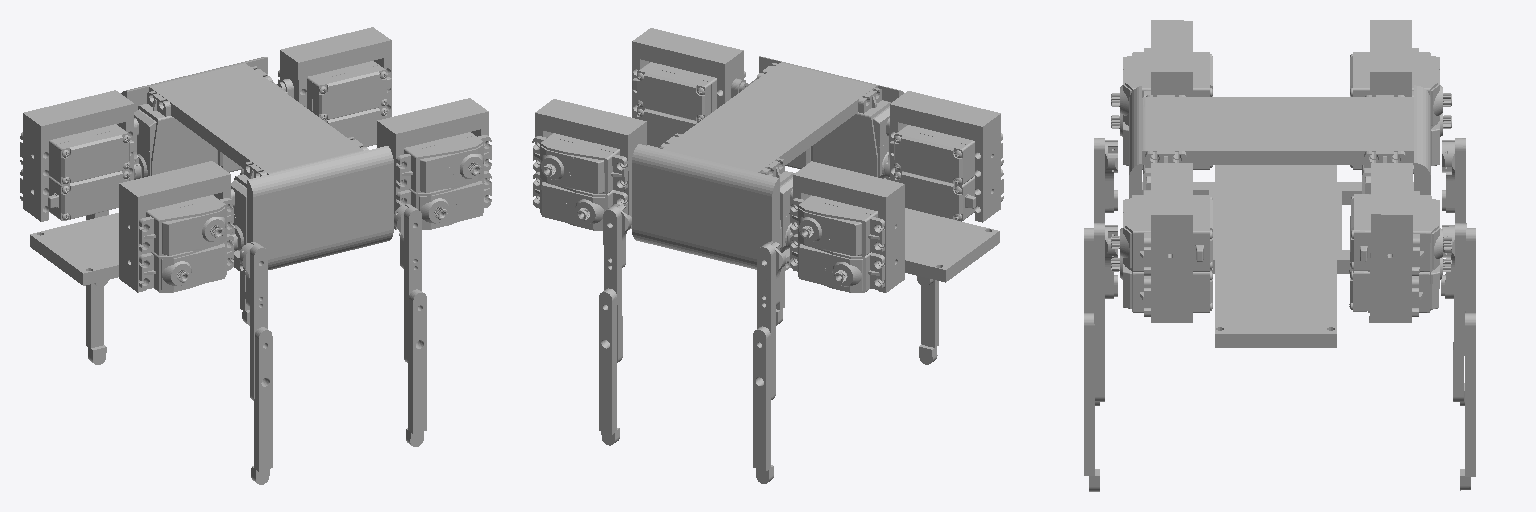
robot.urdf — robot_sim:
<?xml version="1.0" ?>
<robot name="robot_sim">

    <material name="black">
        <color rgba="0.15 0.15 0.15 1.0"/>
    </material>
    <material name="silver">
        <color rgba="0.75 0.75 0.75 1.0"/>
    </material>

    <link name="base_link">
        <visual>
            <origin rpy="0 0 0" xyz="0 0 0"/>
            <geometry>
                <mesh filename="package://robot_sim_description/meshes/base_link.stl" scale="0.001 0.001 0.001"/>
            </geometry>
            <material name="silver"/>
        </visual>
        <collision>
            <origin rpy="0 0 0" xyz="0 0 0"/>
            <geometry>
                <mesh filename="package://robot_sim_description/meshes/base_link.stl" scale="0.001 0.001 0.001"/>
            </geometry>
        </collision>
    </link>

    <link name="base_inertia">
        <inertial>
            <origin xyz="0 0 0"/>
            <mass value="2.7"/>
            <inertia ixx="0.0028125" ixy="0.0" ixz="0.0" iyy="0.005625" iyz="0.0" izz="0.0073125"/>
        </inertial>
    </link>
    <joint name="base_link_to_base_inertia" type="fixed">
        <parent link="base_link"/>
        <child link="base_inertia"/>
        <origin rpy="0 0 0" xyz="0 0 0"/>
    </joint>

    <gazebo reference="base_link">
        <material>Gazebo/Grey</material>
    </gazebo>


    <joint name="lf_hipp_joint" type="revolute">
        <axis xyz="1 0 0"/>
        <limit effort="5" lower="-3.14" upper="3.14" velocity="2.5"/>
        <parent link="base_link"/>
        <child link="lf_hipp_link"/>
        <origin rpy="0 0 0" xyz="0.04469 0.04937 0.01767"/>
    </joint>
    <link name="lf_hipp_link">
        <inertial>
            <mass value="0.7"/>
            <inertia ixx="0.0001866" ixy="0.0" ixz="0.0" iyy="0.0001866" iyz="0.0" izz="0.0001866"/>
        </inertial>
        <visual>
            <origin rpy="0 0 0" xyz="0 0 0"/>
            <geometry>
                <mesh filename="package://robot_sim_description/meshes/lf_hipp.stl" scale="0.001 0.001 0.001"/>
            </geometry>
            <material name="silver"/>
        </visual>
        <collision>
            <origin rpy="0 0 0" xyz="0 0 0"/>
            <geometry>
                <mesh filename="package://robot_sim_description/meshes/lf_hipp.stl" scale="0.001 0.001 0.001"/>
            </geometry>
        </collision>
    </link>
    <joint name="lf_up_joint" type="revolute">
        <axis xyz="0 1 0"/>
        <limit effort="5" lower="-3.14" upper="3.14" velocity="2.5"/>
        <parent link="lf_hipp_link"/>
        <child link="lf_up_link"/>
        <origin rpy="0 0 0" xyz="0 0.0266 0"/>
    </joint>
    <link name="lf_up_link">
        <inertial>
            <origin xyz="0 0 -0.03265"/>
            <mass value="0.2"/>
            <inertia ixx="0.0000777" ixy="0.0" ixz="0.0" iyy="0.0000860" iyz="0.0" izz="0.0000216"/>
        </inertial>
        <visual>
            <origin rpy="0 0 0" xyz="0 0 0"/>
            <geometry>
                <mesh filename="package://robot_sim_description/meshes/lf_up.stl" scale="0.001 0.001 0.001"/>
            </geometry>
            <material name="silver"/>
        </visual>
        <collision>
            <origin rpy="0 0 0" xyz="0 0 0"/>
            <geometry>
                <mesh filename="package://robot_sim_description/meshes/lf_up.stl" scale="0.001 0.001 0.001"/>
            </geometry>
        </collision>
    </link>
    <joint name="lf_low_joint" type="revolute">
        <axis xyz="0 1 0"/>
        <limit effort="5" lower="-3.14" upper="3.14" velocity="2.5"/>
        <parent link="lf_up_link"/>
        <child link="lf_low_link"/>
        <origin rpy="0 0 0" xyz="0 0.0075 -0.0653"/>
    </joint>
    <link name="lf_low_link">
        <inertial>
            <origin xyz="0 0 -0.025"/>
            <mass value="0.2"/>
            <inertia ixx="0.0000483" ixy="0.0" ixz="0.0" iyy="0.0000483" iyz="0.0" izz="0.0000133"/>
        </inertial>
        <visual>
            <origin rpy="0 0 0" xyz="0 0 0"/>
            <geometry>
                <mesh filename="package://robot_sim_description/meshes/lf_low.stl" scale="0.001 0.001 0.001"/>
            </geometry>
            <material name="silver"/>
        </visual>
        <collision>
            <origin rpy="0 0 0" xyz="0 0 0"/>
            <geometry>
                <mesh filename="package://robot_sim_description/meshes/lf_low.stl" scale="0.001 0.001 0.001"/>
            </geometry>
        </collision>
    </link>
    <joint name="lf_foot_joint" type="fixed">
        <parent link="lf_low_link"/>
        <child link="lf_foot_link"/>
        <origin rpy="0 0 0" xyz="0 0 -0.0495"/>
    </joint>
    <link name="lf_foot_link">
        <inertial>
            <mass value="0.1"/>
            <inertia ixx="0.0001" ixy="0.0" ixz="0.0" iyy="0.0001" iyz="0.0" izz="0.0001"/>
        </inertial>
        <visual>
            <origin rpy="0 0 0" xyz="0 0 0"/>
            <geometry>
                <mesh filename="package://robot_sim_description/meshes/lf_foot.stl" scale="0.001 0.001 0.001"/>
            </geometry>
            <material name="silver"/>
        </visual>
        <collision>
            <origin rpy="0 0 0" xyz="0 0 0"/>
            <geometry>
                <sphere radius="0.02"/>
            </geometry>
        </collision>
    </link>


    <joint name="lh_hipp_joint" type="revolute">
        <axis xyz="1 0 0"/>
        <limit effort="5" lower="-3.14" upper="3.14" velocity="2.5"/>
        <parent link="base_link"/>
        <child link="lh_hipp_link"/>
        <origin rpy="0 0 0" xyz="-0.04640 0.04937 0.01767"/>
    </joint>
    <link name="lh_hipp_link">
        <inertial>
            <mass value="0.7"/>
            <inertia ixx="0.0001866" ixy="0.0" ixz="0.0" iyy="0.0001866" iyz="0.0" izz="0.0001866"/>
        </inertial>
        <visual>
            <origin rpy="0 0 0" xyz="0 0 0"/>
            <geometry>
                <mesh filename="package://robot_sim_description/meshes/lh_hipp.stl" scale="0.001 0.001 0.001"/>
            </geometry>
            <material name="silver"/>
        </visual>
        <collision>
            <origin rpy="0 0 0" xyz="0 0 0"/>
            <geometry>
                <mesh filename="package://robot_sim_description/meshes/lh_hipp.stl" scale="0.001 0.001 0.001"/>
            </geometry>
        </collision>
    </link>
    <joint name="lh_up_joint" type="revolute">
        <axis xyz="0 1 0"/>
        <limit effort="5" lower="-3.14" upper="3.14" velocity="2.5"/>
        <parent link="lh_hipp_link"/>
        <child link="lh_up_link"/>
        <origin rpy="0 0 0" xyz="0 0.0266 0"/>
    </joint>
    <link name="lh_up_link">
        <inertial>
            <origin xyz="0 0 -0.03265"/>
            <mass value="0.2"/>
            <inertia ixx="0.0000777" ixy="0.0" ixz="0.0" iyy="0.0000860" iyz="0.0" izz="0.0000216"/>
        </inertial>
        <visual>
            <origin rpy="0 0 0" xyz="0 0 0"/>
            <geometry>
                <mesh filename="package://robot_sim_description/meshes/lh_up.stl" scale="0.001 0.001 0.001"/>
            </geometry>
            <material name="silver"/>
        </visual>
        <collision>
            <origin rpy="0 0 0" xyz="0 0 0"/>
            <geometry>
                <mesh filename="package://robot_sim_description/meshes/lh_up.stl" scale="0.001 0.001 0.001"/>
            </geometry>
        </collision>
    </link>
    <joint name="lh_low_joint" type="revolute">
        <axis xyz="0 1 0"/>
        <limit effort="5" lower="-3.14" upper="3.14" velocity="2.5"/>
        <parent link="lh_up_link"/>
        <child link="lh_low_link"/>
        <origin rpy="0 0 0" xyz="0 0.0075 -0.0653"/>
    </joint>
    <link name="lh_low_link">
        <inertial>
            <origin xyz="0 0 -0.025"/>
            <mass value="0.2"/>
            <inertia ixx="0.0000483" ixy="0.0" ixz="0.0" iyy="0.0000483" iyz="0.0" izz="0.0000133"/>
        </inertial>
        <visual>
            <origin rpy="0 0 0" xyz="0 0 0"/>
            <geometry>
                <mesh filename="package://robot_sim_description/meshes/lh_low.stl" scale="0.001 0.001 0.001"/>
            </geometry>
            <material name="silver"/>
        </visual>
        <collision>
            <origin rpy="0 0 0" xyz="0 0 0"/>
            <geometry>
                <mesh filename="package://robot_sim_description/meshes/lh_low.stl" scale="0.001 0.001 0.001"/>
            </geometry>
        </collision>
    </link>
    <joint name="lh_foot_joint" type="fixed">
        <parent link="lh_low_link"/>
        <child link="lh_foot_link"/>
        <origin rpy="0 0 0" xyz="0 0 -0.0495"/>
    </joint>
    <link name="lh_foot_link">
        <inertial>
            <mass value="0.1"/>
            <inertia ixx="0.0001" ixy="0.0" ixz="0.0" iyy="0.0001" iyz="0.0" izz="0.0001"/>
        </inertial>
        <visual>
            <origin rpy="0 0 0" xyz="0 0 0"/>
            <geometry>
                <mesh filename="package://robot_sim_description/meshes/lh_foot.stl" scale="0.001 0.001 0.001"/>
            </geometry>
            <material name="silver"/>
        </visual>
        <collision>
            <origin rpy="0 0 0" xyz="0 0 0"/>
            <geometry>
                <sphere radius="0.02"/>
            </geometry>
        </collision>
    </link>


    <joint name="rf_hipp_joint" type="revolute">
        <axis xyz="1 0 0"/>
        <limit effort="5" lower="-3.14" upper="3.14" velocity="2.5"/>
        <parent link="base_link"/>
        <child link="rf_hipp_link"/>
        <origin rpy="0 0 0" xyz="0.04469 -0.04937 0.01767"/>
    </joint>
    <link name="rf_hipp_link">
        <inertial>
            <mass value="0.7"/>
            <inertia ixx="0.0001866" ixy="0.0" ixz="0.0" iyy="0.0001866" iyz="0.0" izz="0.0001866"/>
        </inertial>
        <visual>
            <origin rpy="0 0 0" xyz="0 0 0"/>
            <geometry>
                <mesh filename="package://robot_sim_description/meshes/rf_hipp.stl" scale="0.001 0.001 0.001"/>
            </geometry>
            <material name="silver"/>
        </visual>
        <collision>
            <origin rpy="0 0 0" xyz="0 0 0"/>
            <geometry>
                <mesh filename="package://robot_sim_description/meshes/rf_hippp.stl" scale="0.001 0.001 0.001"/>
            </geometry>
        </collision>
    </link>
    <joint name="rf_up_joint" type="revolute">
        <axis xyz="0 1 0"/>
        <limit effort="5" lower="-3.14" upper="3.14" velocity="2.5"/>
        <parent link="rf_hipp_link"/>
        <child link="rf_up_link"/>
        <origin rpy="0 0 0" xyz="0 -0.0266 0"/>
    </joint>
    <link name="rf_up_link">
        <inertial>
            <origin xyz="0 0 -0.03265"/>
            <mass value="0.2"/>
            <inertia ixx="0.0000777" ixy="0.0" ixz="0.0" iyy="0.0000860" iyz="0.0" izz="0.0000216"/>
        </inertial>
        <visual>
            <origin rpy="0 0 0" xyz="0 0 0"/>
            <geometry>
                <mesh filename="package://robot_sim_description/meshes/rf_up.stl" scale="0.001 0.001 0.001"/>
            </geometry>
            <material name="silver"/>
        </visual>
        <collision>
            <origin rpy="0 0 0" xyz="0 0 0"/>
            <geometry>
                <mesh filename="package://robot_sim_description/meshes/rf_up.stl" scale="0.001 0.001 0.001"/>
            </geometry>
        </collision>
    </link>
    <joint name="rf_low_joint" type="revolute">
        <axis xyz="0 1 0"/>
        <limit effort="5" lower="-3.14" upper="3.14" velocity="2.5"/>
        <parent link="rf_up_link"/>
        <child link="rf_low_link"/>
        <origin rpy="0 0 0" xyz="0 -0.0075 -0.0653"/>
    </joint>
    <link name="rf_low_link">
        <inertial>
            <origin xyz="0 0 -0.025"/>
            <mass value="0.2"/>
            <inertia ixx="0.0000483" ixy="0.0" ixz="0.0" iyy="0.0000483" iyz="0.0" izz="0.0000133"/>
        </inertial>
        <visual>
            <origin rpy="0 0 0" xyz="0 0 0"/>
            <geometry>
                <mesh filename="package://robot_sim_description/meshes/rf_low.stl" scale="0.001 0.001 0.001"/>
            </geometry>
            <material name="silver"/>
        </visual>
        <collision>
            <origin rpy="0 0 0" xyz="0 0 0"/>
            <geometry>
                <mesh filename="package://robot_sim_description/meshes/rf_low.stl" scale="0.001 0.001 0.001"/>
            </geometry>
        </collision>
    </link>
    <joint name="rf_foot_joint" type="fixed">
        <parent link="rf_low_link"/>
        <child link="rf_foot_link"/>
        <origin rpy="0 0 0" xyz="0 0 -0.0495"/>
    </joint>
    <link name="rf_foot_link">
        <inertial>
            <mass value="0.1"/>
            <inertia ixx="0.0001" ixy="0.0" ixz="0.0" iyy="0.0001" iyz="0.0" izz="0.0001"/>
        </inertial>
        <visual>
            <origin rpy="0 0 0" xyz="0 0 0"/>
            <geometry>
                <mesh filename="package://robot_sim_description/meshes/rf_foot.stl" scale="0.001 0.001 0.001"/>
            </geometry>
            <material name="silver"/>
        </visual>
        <collision>
            <origin rpy="0 0 0" xyz="0 0 0"/>
            <geometry>
                <sphere radius="0.02"/>
            </geometry>
        </collision>
    </link>


    <joint name="rh_hipp_joint" type="revolute">
        <axis xyz="1 0 0"/>
        <limit effort="5" lower="-3.14" upper="3.14" velocity="2.5"/>
        <parent link="base_link"/>
        <child link="rh_hipp_link"/>
        <origin rpy="0 0 0" xyz="-0.04640 -0.04937 0.01767"/>
    </joint>
    <link name="rh_hipp_link">
        <inertial>
            <mass value="0.7"/>
            <inertia ixx="0.0001866" ixy="0.0" ixz="0.0" iyy="0.0001866" iyz="0.0" izz="0.0001866"/>
        </inertial>
        <visual>
            <origin rpy="0 0 0" xyz="0 0 0"/>
            <geometry>
                <mesh filename="package://robot_sim_description/meshes/rh_hipp.stl" scale="0.001 0.001 0.001"/>
            </geometry>
            <material name="silver"/>
        </visual>
        <collision>
            <origin rpy="0 0 0" xyz="0 0 0"/>
            <geometry>
                <mesh filename="package://robot_sim_description/meshes/rh_hipp.stl" scale="0.001 0.001 0.001"/>
            </geometry>
        </collision>
    </link>
    <joint name="rh_up_joint" type="revolute">
        <axis xyz="0 1 0"/>
        <limit effort="5" lower="-3.14" upper="3.14" velocity="2.5"/>
        <parent link="rh_hipp_link"/>
        <child link="rh_up_link"/>
        <origin rpy="0 0 0" xyz="0 -0.0266 0"/>
    </joint>
    <link name="rh_up_link">
        <inertial>
            <origin xyz="0 0 -0.03265"/>
            <mass value="0.2"/>
            <inertia ixx="0.0000777" ixy="0.0" ixz="0.0" iyy="0.0000860" iyz="0.0" izz="0.0000216"/>
        </inertial>
        <visual>
            <origin rpy="0 0 0" xyz="0 0 0"/>
            <geometry>
                <mesh filename="package://robot_sim_description/meshes/rh_up.stl" scale="0.001 0.001 0.001"/>
            </geometry>
            <material name="silver"/>
        </visual>
        <collision>
            <origin rpy="0 0 0" xyz="0 0 0"/>
            <geometry>
                <mesh filename="package://robot_sim_description/meshes/rh_up.stl" scale="0.001 0.001 0.001"/>
            </geometry>
        </collision>
    </link>
    <joint name="rh_low_joint" type="revolute">
        <axis xyz="0 1 0"/>
        <limit effort="5" lower="-3.14" upper="3.14" velocity="2.5"/>
        <parent link="rh_up_link"/>
        <child link="rh_low_link"/>
        <origin rpy="0 0 0" xyz="0 -0.0075 -0.0653"/>
    </joint>
    <link name="rh_low_link">
        <inertial>
            <origin xyz="0 0 -0.025"/>
            <mass value="0.2"/>
            <inertia ixx="0.0000483" ixy="0.0" ixz="0.0" iyy="0.0000483" iyz="0.0" izz="0.0000133"/>
        </inertial>
        <visual>
            <origin rpy="0 0 0" xyz="0 0 0"/>
            <geometry>
                <mesh filename="package://robot_sim_description/meshes/rh_low.stl" scale="0.001 0.001 0.001"/>
            </geometry>
            <material name="silver"/>
        </visual>
        <collision>
            <origin rpy="0 0 0" xyz="0 0 0"/>
            <geometry>
                <mesh filename="package://robot_sim_description/meshes/rh_low.stl" scale="0.001 0.001 0.001"/>
            </geometry>
        </collision>
    </link>
    <joint name="rh_foot_joint" type="fixed">
        <parent link="rh_low_link"/>
        <child link="rh_foot_link"/>
        <origin rpy="0 0 0" xyz="0 0 -0.0495"/>
    </joint>
    <link name="rh_foot_link">
        <inertial>
            <mass value="0.1"/>
            <inertia ixx="0.0001" ixy="0.0" ixz="0.0" iyy="0.0001" iyz="0.0" izz="0.0001"/>
        </inertial>
        <visual>
            <origin rpy="0 0 0" xyz="0 0 0"/>
            <geometry>
                <mesh filename="package://robot_sim_description/meshes/rh_foot.stl" scale="0.001 0.001 0.001"/>
            </geometry>
            <material name="silver"/>
        </visual>
        <collision>
            <origin rpy="0 0 0" xyz="0 0 0"/>
            <geometry>
                <sphere radius="0.02"/>
            </geometry>
        </collision>
    </link>


    <transmission name="lf_hipp_joint_trans">
        <type>transmission_interface/SimpleTransmission</type>
        <joint name="lf_hipp_joint">
            <hardwareInterface>hardware_interface/EffortJointInterface</hardwareInterface>
        </joint>
        <actuator name="lf_hipp_joint_motor">
            <hardwareInterface>hardware_interface/EffortJointInterface</hardwareInterface>
            <mechanicalReduction>1</mechanicalReduction>
        </actuator>
    </transmission>
    <transmission name="lf_up_joint_trans">
        <type>transmission_interface/SimpleTransmission</type>
        <joint name="lf_up_joint">
            <hardwareInterface>hardware_interface/EffortJointInterface</hardwareInterface>
        </joint>
        <actuator name="lf_up_joint_motor">
            <hardwareInterface>hardware_interface/EffortJointInterface</hardwareInterface>
            <mechanicalReduction>1</mechanicalReduction>
        </actuator>
    </transmission>
    <transmission name="lf_low_joint_trans">
        <type>transmission_interface/SimpleTransmission</type>
        <joint name="lf_low_joint">
            <hardwareInterface>hardware_interface/EffortJointInterface</hardwareInterface>
        </joint>
        <actuator name="lf_low_joint_motor">
            <hardwareInterface>hardware_interface/EffortJointInterface</hardwareInterface>
            <mechanicalReduction>1</mechanicalReduction>
        </actuator>
    </transmission>

    <transmission name="lh_hipp_joint_trans">
        <type>transmission_interface/SimpleTransmission</type>
        <joint name="lh_hipp_joint">
            <hardwareInterface>hardware_interface/EffortJointInterface</hardwareInterface>
        </joint>
        <actuator name="lh_hipp_joint_motor">
            <hardwareInterface>hardware_interface/EffortJointInterface</hardwareInterface>
            <mechanicalReduction>1</mechanicalReduction>
        </actuator>
    </transmission>
    <transmission name="lh_up_joint_trans">
        <type>transmission_interface/SimpleTransmission</type>
        <joint name="lh_up_joint">
            <hardwareInterface>hardware_interface/EffortJointInterface</hardwareInterface>
        </joint>
        <actuator name="lh_up_joint_motor">
            <hardwareInterface>hardware_interface/EffortJointInterface</hardwareInterface>
            <mechanicalReduction>1</mechanicalReduction>
        </actuator>
    </transmission>
    <transmission name="lh_low_joint_trans">
        <type>transmission_interface/SimpleTransmission</type>
        <joint name="lh_low_joint">
            <hardwareInterface>hardware_interface/EffortJointInterface</hardwareInterface>
        </joint>
        <actuator name="lh_low_joint_motor">
            <hardwareInterface>hardware_interface/EffortJointInterface</hardwareInterface>
            <mechanicalReduction>1</mechanicalReduction>
        </actuator>
    </transmission>

    <transmission name="rf_hipp_joint_trans">
        <type>transmission_interface/SimpleTransmission</type>
        <joint name="rf_hipp_joint">
            <hardwareInterface>hardware_interface/EffortJointInterface</hardwareInterface>
        </joint>
        <actuator name="rf_hipp_joint_motor">
            <hardwareInterface>hardware_interface/EffortJointInterface</hardwareInterface>
            <mechanicalReduction>1</mechanicalReduction>
        </actuator>
    </transmission>
    <transmission name="rf_up_joint_trans">
        <type>transmission_interface/SimpleTransmission</type>
        <joint name="rf_up_joint">
            <hardwareInterface>hardware_interface/EffortJointInterface</hardwareInterface>
        </joint>
        <actuator name="rf_up_joint_motor">
            <hardwareInterface>hardware_interface/EffortJointInterface</hardwareInterface>
            <mechanicalReduction>1</mechanicalReduction>
        </actuator>
    </transmission>
    <transmission name="rf_low_joint_trans">
        <type>transmission_interface/SimpleTransmission</type>
        <joint name="rf_low_joint">
            <hardwareInterface>hardware_interface/EffortJointInterface</hardwareInterface>
        </joint>
        <actuator name="rf_low_joint_motor">
            <hardwareInterface>hardware_interface/EffortJointInterface</hardwareInterface>
            <mechanicalReduction>1</mechanicalReduction>
        </actuator>
    </transmission>

    <transmission name="rh_hipp_joint_trans">
        <type>transmission_interface/SimpleTransmission</type>
        <joint name="rh_hipp_joint">
            <hardwareInterface>hardware_interface/EffortJointInterface</hardwareInterface>
        </joint>
        <actuator name="rh_hipp_joint_motor">
            <hardwareInterface>hardware_interface/EffortJointInterface</hardwareInterface>
            <mechanicalReduction>1</mechanicalReduction>
        </actuator>
    </transmission>
    <transmission name="rh_up_joint_trans">
        <type>transmission_interface/SimpleTransmission</type>
        <joint name="rh_up_joint">
            <hardwareInterface>hardware_interface/EffortJointInterface</hardwareInterface>
        </joint>
        <actuator name="rh_up_joint_motor">
            <hardwareInterface>hardware_interface/EffortJointInterface</hardwareInterface>
            <mechanicalReduction>1</mechanicalReduction>
        </actuator>
    </transmission>
    <transmission name="rh_low_joint_trans">
        <type>transmission_interface/SimpleTransmission</type>
        <joint name="rh_low_joint">
            <hardwareInterface>hardware_interface/EffortJointInterface</hardwareInterface>
        </joint>
        <actuator name="rh_low_joint_motor">
            <hardwareInterface>hardware_interface/EffortJointInterface</hardwareInterface>
            <mechanicalReduction>1</mechanicalReduction>
        </actuator>
    </transmission>

    <gazebo>
        <plugin filename="libgazebo_ros_p3d.so" name="p3d_base_controller">
            <alwaysOn>true</alwaysOn>
            <updateRate>10.0</updateRate>
            <bodyName>base_link</bodyName>
            <topicName>odom/ground_truth</topicName>
            <gaussianNoise>0.01</gaussianNoise>
            <frameName>world</frameName>
            <xyzOffsets>0 0 0</xyzOffsets>
            <rpyOffsets>0 0 0</rpyOffsets>
        </plugin>
    </gazebo>

    <gazebo>
        <plugin filename="libgazebo_ros_control.so" name="gazebo_ros_control">
            <legacyModeNS>true</legacyModeNS>
        </plugin>
    </gazebo>

</robot>

--- What the picture shows (computed from the rendered views, not written in the file) ---
The picture shows the robot from 3 angles, left to right: view 1: azimuth 30°, elevation 25°; view 2: azimuth 150°, elevation 25°; view 3: azimuth 270°, elevation 25°; orthographic projection.
Robot: robot_sim — 18 links, 17 joints (12 revolute, 5 fixed); root link base_link; default pose: every joint at zero.
Visible links, largest first — view 1: base_link, rh_hipp_link, lh_hipp_link, rf_hipp_link, lf_hipp_link, rf_low_link, rh_low_link, rh_up_link, rf_up_link, lh_low_link; view 2: base_link, lh_hipp_link, rh_hipp_link, lf_hipp_link, rf_hipp_link, lf_low_link, lh_low_link, lh_up_link, lf_up_link, rh_low_link; view 3: base_link, rf_hipp_link, lf_hipp_link, lh_hipp_link, rh_hipp_link, lf_up_link, rf_up_link, lh_up_link, rh_up_link, lf_low_link, rf_low_link, rh_low_link (+1 smaller).
Boxes of the visible links, <box> form: base_link: <box>30,57,489,285</box>; rh_hipp_link: <box>119,161,237,292</box>; lh_hipp_link: <box>20,90,141,221</box>; rf_hipp_link: <box>377,98,491,229</box>; lf_hipp_link: <box>277,27,391,146</box>; rf_low_link: <box>408,289,426,433</box>; rh_low_link: <box>254,327,272,471</box>; rh_up_link: <box>239,242,267,400</box>; rf_up_link: <box>394,204,421,362</box>; lh_low_link: <box>86,215,103,347</box>; base_link: <box>632,56,999,282</box>; lh_hipp_link: <box>787,161,904,292</box>; rh_hipp_link: <box>884,91,1003,222</box>; lf_hipp_link: <box>532,99,646,230</box>; rf_hipp_link: <box>632,28,747,147</box>; lf_low_link: <box>599,288,616,434</box>; lh_low_link: <box>753,326,770,470</box>; lh_up_link: <box>757,241,785,399</box>; lf_up_link: <box>603,204,631,362</box>; rh_low_link: <box>921,280,938,347</box>; base_link: <box>1129,85,1430,347</box>; rf_hipp_link: <box>1111,163,1212,322</box>; lf_hipp_link: <box>1349,163,1451,322</box>; lh_hipp_link: <box>1350,20,1451,173</box>; rh_hipp_link: <box>1111,20,1212,169</box>; lf_up_link: <box>1441,223,1466,401</box>; rf_up_link: <box>1094,223,1117,401</box>; lh_up_link: <box>1442,138,1465,312</box>; rh_up_link: <box>1094,138,1117,222</box>; lf_low_link: <box>1465,313,1475,476</box>; rf_low_link: <box>1084,313,1094,475</box>; rh_low_link: <box>1084,228,1093,312</box>.
Size in the robot's own frame: 0.24 by 0.177 by 0.1646 metres.
Meshes: 17 distinct files referenced, 17 mesh visuals loaded (17 binary STL).
